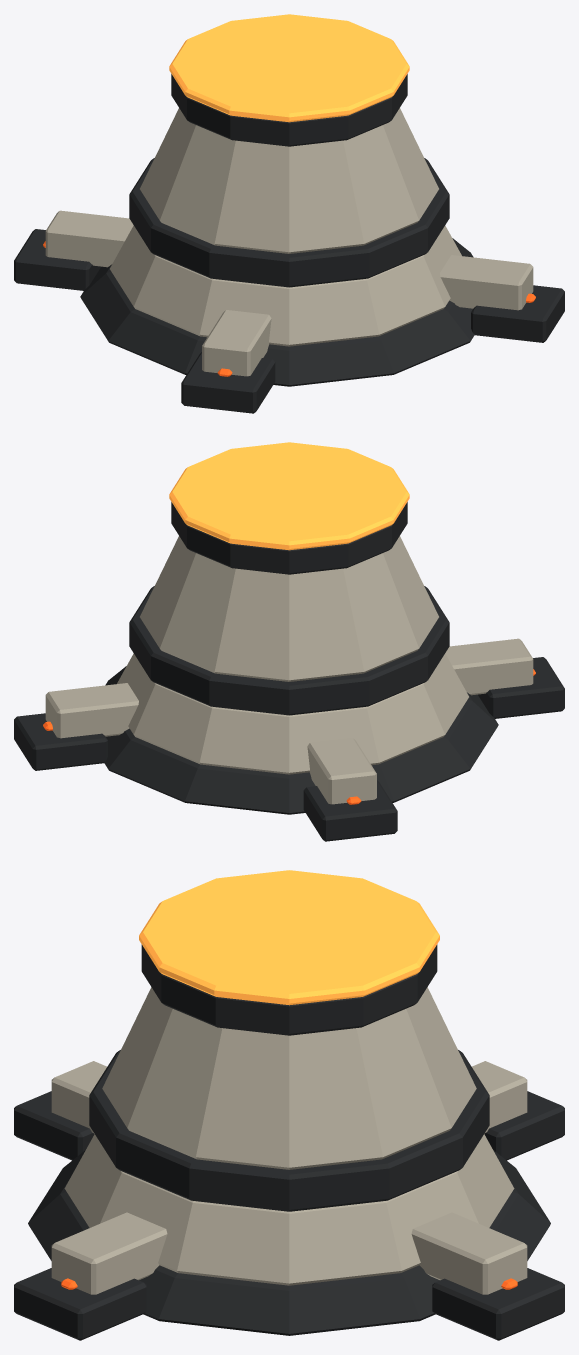
The model's file is tower_basic_base.glb.
3 renders of one model, top to bottom at view 1: azimuth 30°, elevation 25°; view 2: azimuth 150°, elevation 25°; view 3: azimuth 270°, elevation 25°, orthographic. The views are drawn at different scales.
Parts seen in each view (by area): view 1: TowerBasic_Base; view 2: TowerBasic_Base; view 3: TowerBasic_Base.
Part boxes in pixels (x1,y1,x2,y2): TowerBasic_Base: (14, 14, 564, 413); TowerBasic_Base: (14, 442, 564, 841); TowerBasic_Base: (14, 870, 564, 1340).
Size of the model in its own units: 0.8754 by 0.515 by 0.8754.
